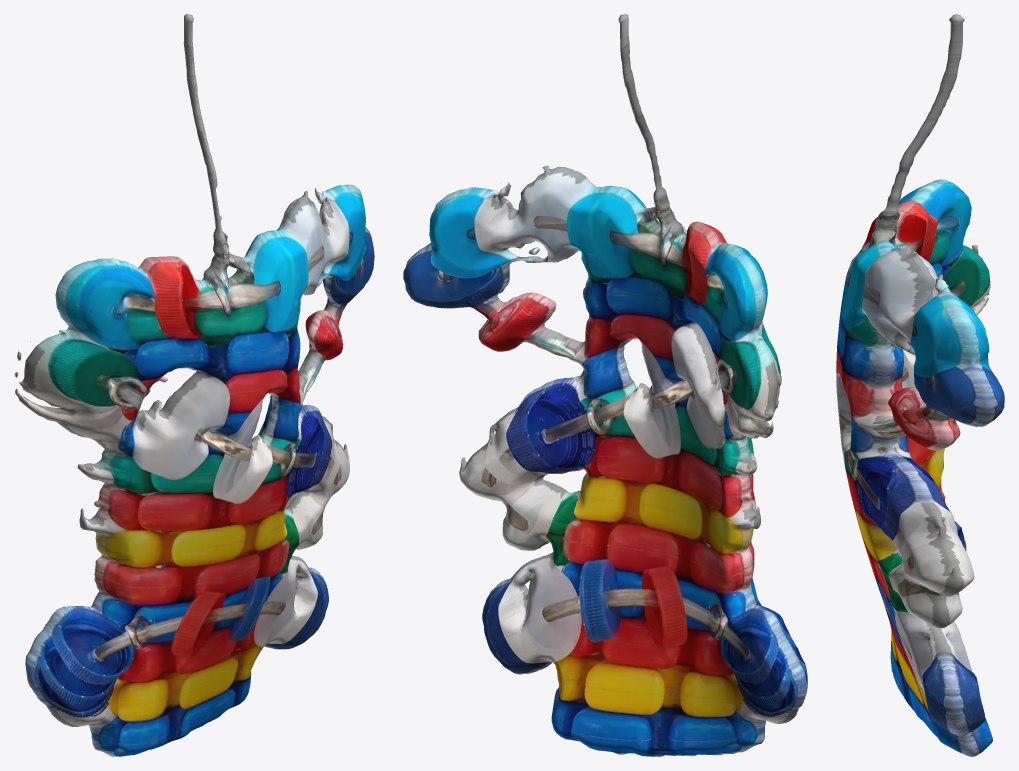
File: hy3d-mov-030.glb
3 renders of one model, left to right at view 1: azimuth 30°, elevation 25°; view 2: azimuth 150°, elevation 25°; view 3: azimuth 270°, elevation 25°, orthographic. The views are drawn at different scales.
Parts seen in each view (by area): view 1: world; view 2: world; view 3: world.
Part boxes in pixels (x1,y1,x2,y2): world: (14,14,374,756); world: (403,14,807,756); world: (836,14,1004,756).
Size of the model in its own units: 1.28 by 2.39 by 0.5014.
Materials: 1 (1 with a texture image).
